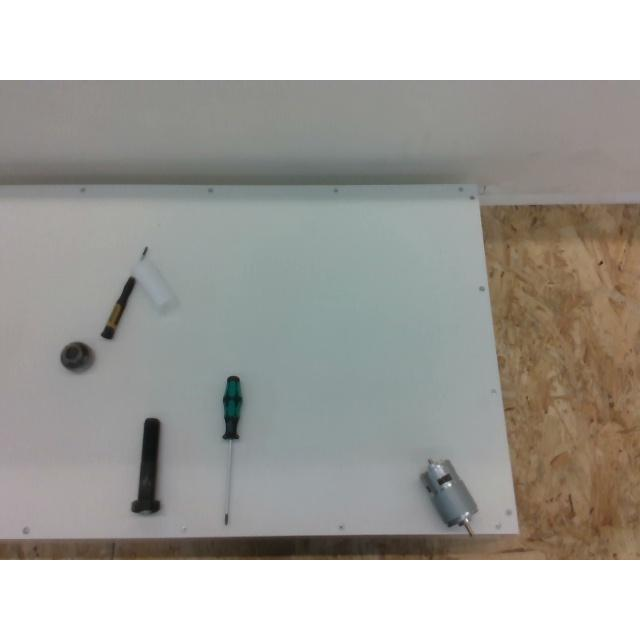Bearing2: (60, 342, 94, 372)
M20_100: (132, 418, 160, 514)
Motor2: (419, 458, 476, 536)
Screwdriver: (222, 375, 242, 525)
Spacer: (131, 255, 179, 312)
